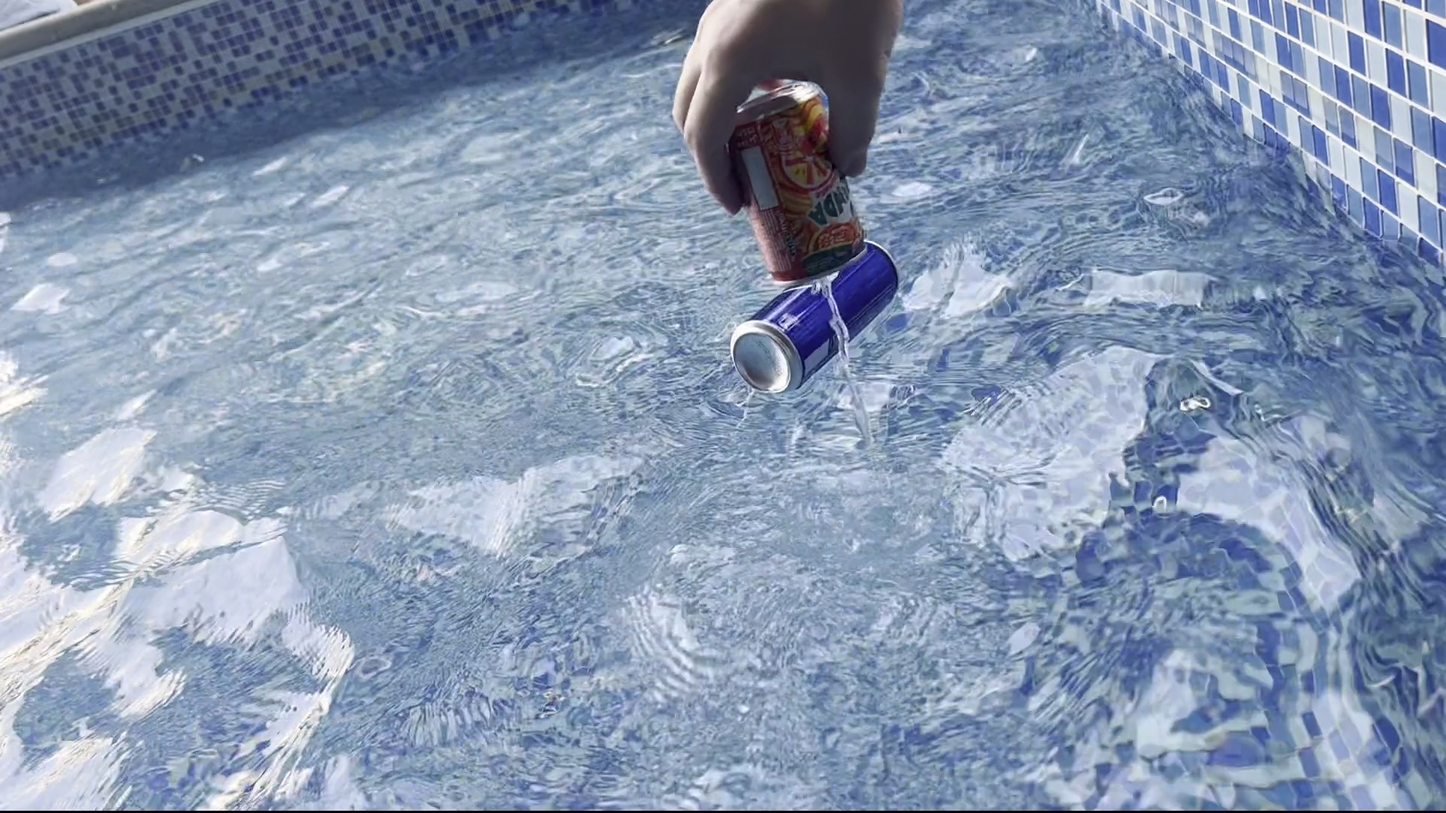debris: (710, 62, 870, 284), (724, 215, 911, 402)
